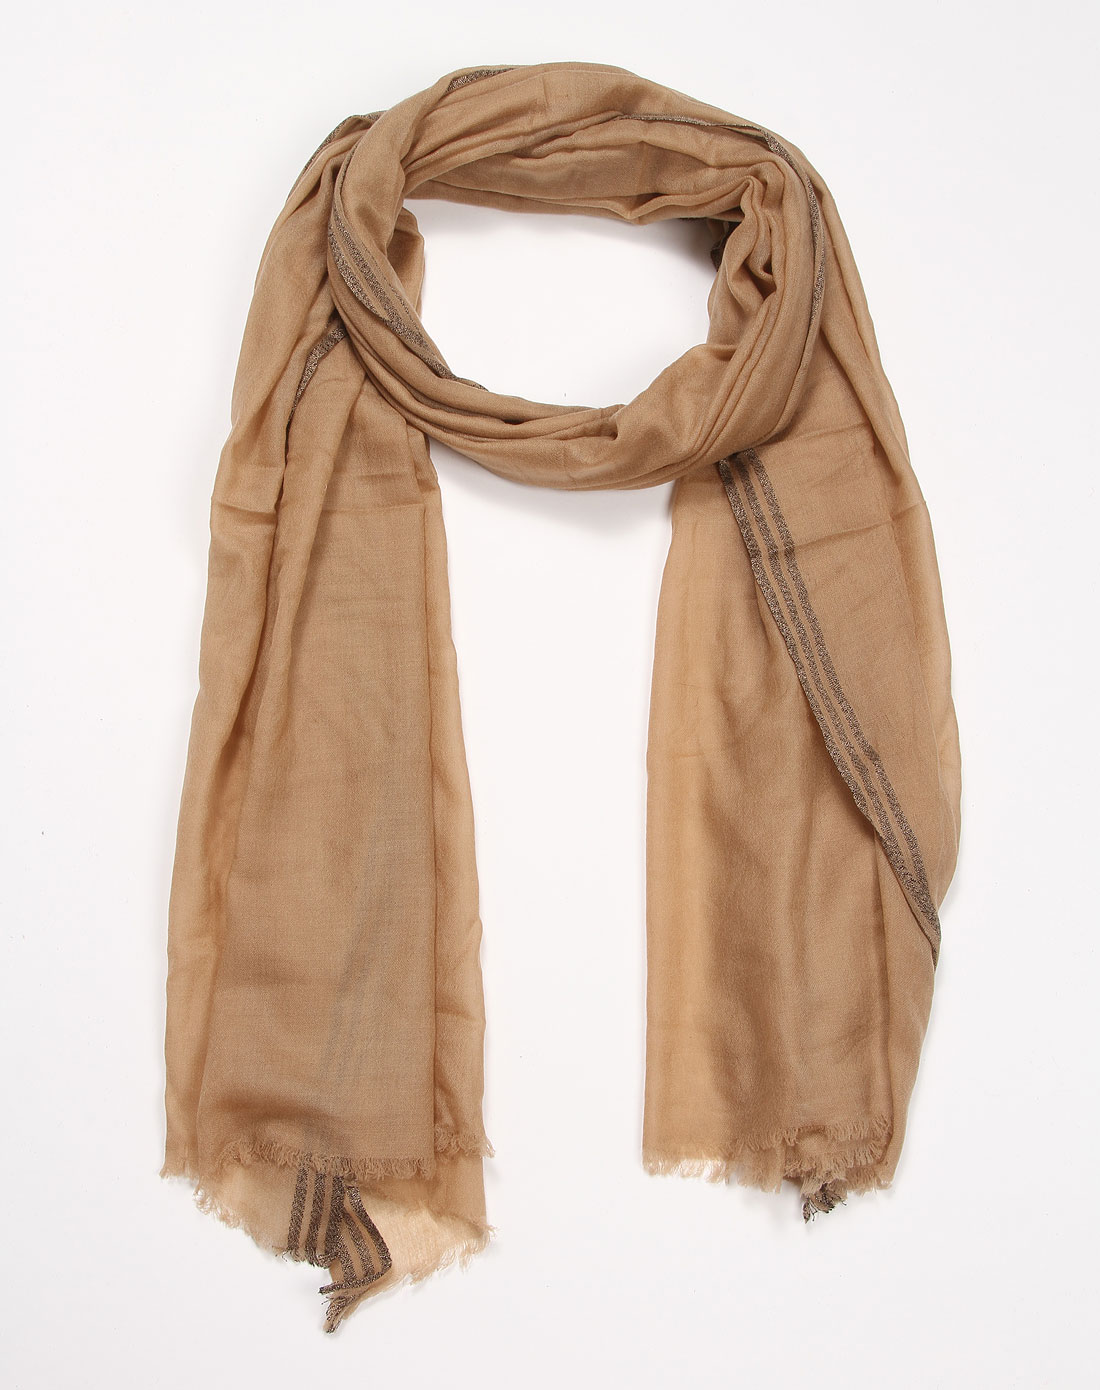flexible: (131, 50, 970, 1316)
